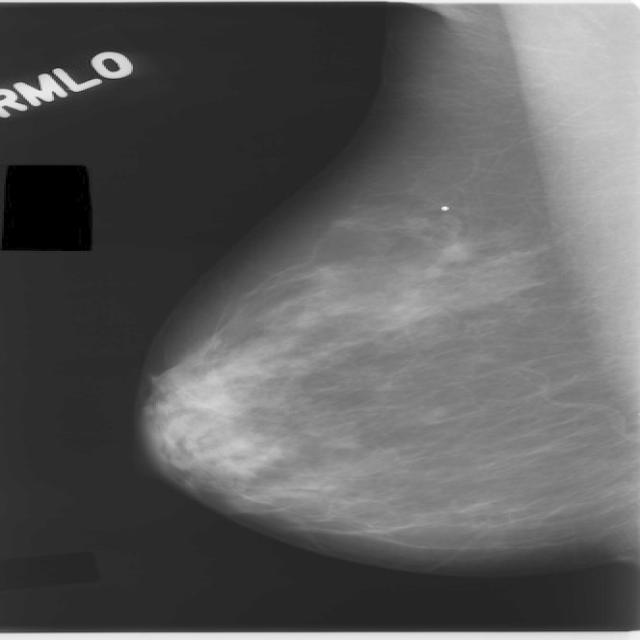tumour: (434, 240, 466, 261)
